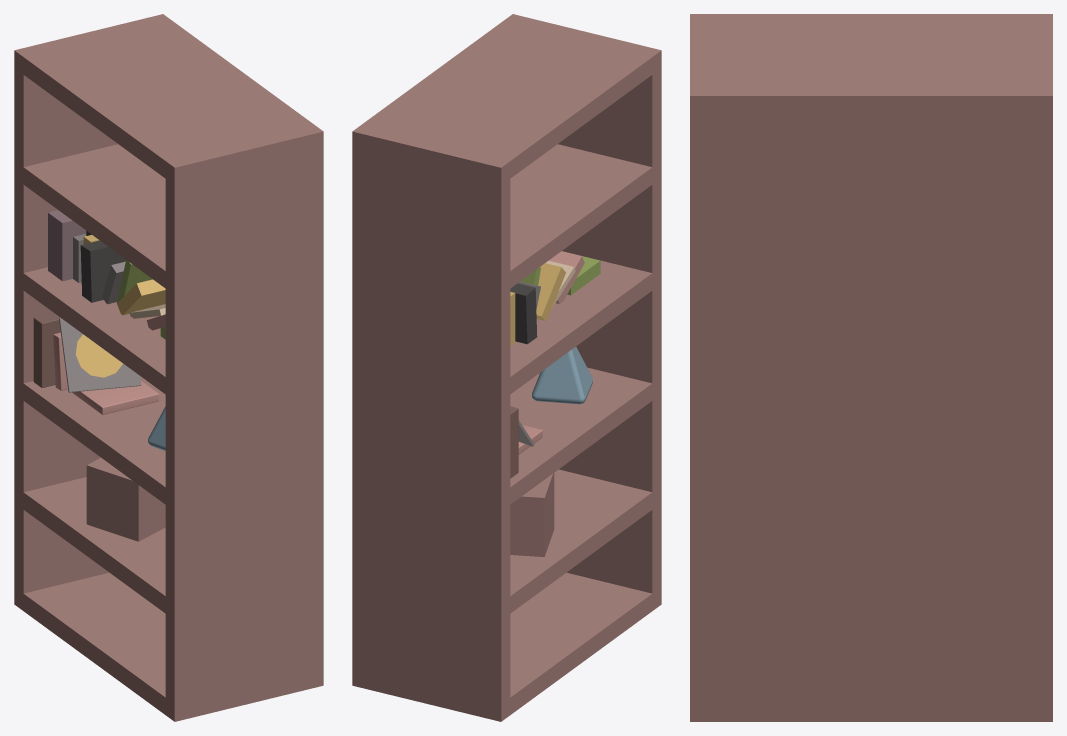
Rendered from cabinet-book-transformed.glb.
3 renders of one model, left to right at view 1: azimuth 30°, elevation 25°; view 2: azimuth 150°, elevation 25°; view 3: azimuth 270°, elevation 25°, orthographic. The views are drawn at different scales.
Parts seen in each view (by area): view 1: Merged Geometry.009, Cube 93.005, Merged Geometry.008, Cube 2.004, Cube.004, Cube 8.004, Cube.005, Ellipse 2.001, Cube 8.001, Cube 8.003, Cube 8.002; view 2: Merged Geometry.009, Cube 93.005, Pyramid.001, Cube 8.004, Cube 8.001, Cube.005, Cube 3.001, Cube 7.004; view 3: Merged Geometry.009.
Part boxes in pixels (x1,y1,x2,y2): Merged Geometry.009: (14,14,323,721); Cube 93.005: (86,458,165,541); Merged Geometry.008: (53,332,158,414); Cube 2.004: (59,318,141,392); Cube.004: (48,210,86,281); Cube 8.004: (80,240,125,302); Cube.005: (33,313,60,387); Ellipse 2.001: (75,334,122,377); Cube 8.001: (117,279,165,315); Cube 8.003: (102,261,125,304); Cube 8.002: (117,260,152,303); Merged Geometry.009: (352,14,661,721); Cube 93.005: (510,473,554,556); Pyramid.001: (532,346,592,404); Cube 8.004: (510,283,537,344); Cube 8.001: (536,263,565,320); Cube.005: (510,406,518,478); Cube 3.001: (549,251,584,303); Cube 7.004: (567,253,600,295); Merged Geometry.009: (690,14,1052,721).
Bounding box in the file's own units: 0.6225 × 2.21 × 1.16.
